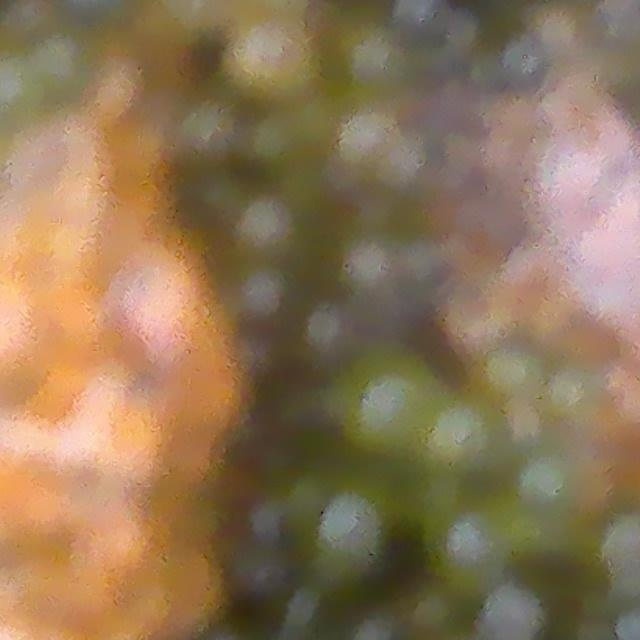SeaGrape: (331, 344, 445, 462), (423, 391, 512, 480), (232, 261, 292, 326), (481, 582, 545, 640)
